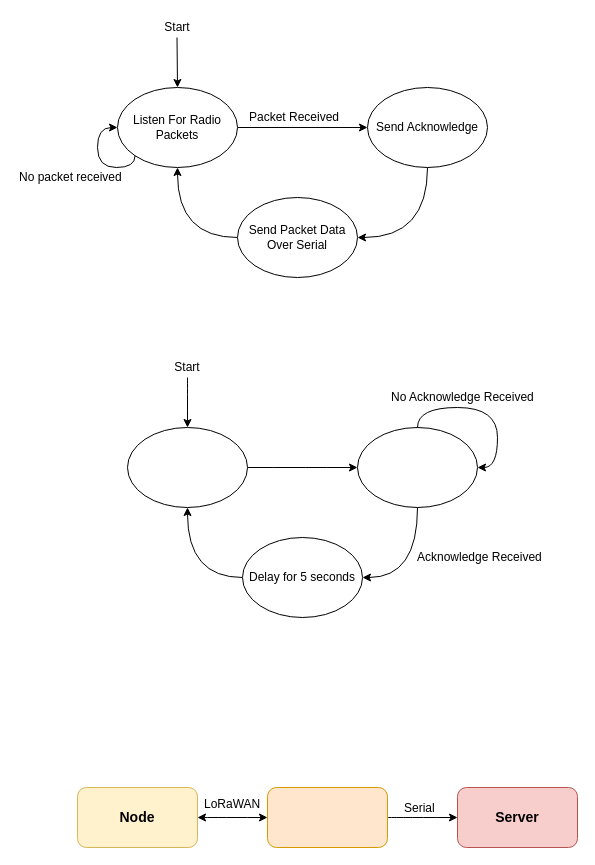
This 595x865 diagram has some shape labels left out. The shapes that lost their labels are listed below. From the top down, each one's centre as x and y in pixels, then its label:
pixel 187 467: Read Sensor Data
pixel 417 467: Send Sensor Data over Radio
pixel 327 817: Gateway
